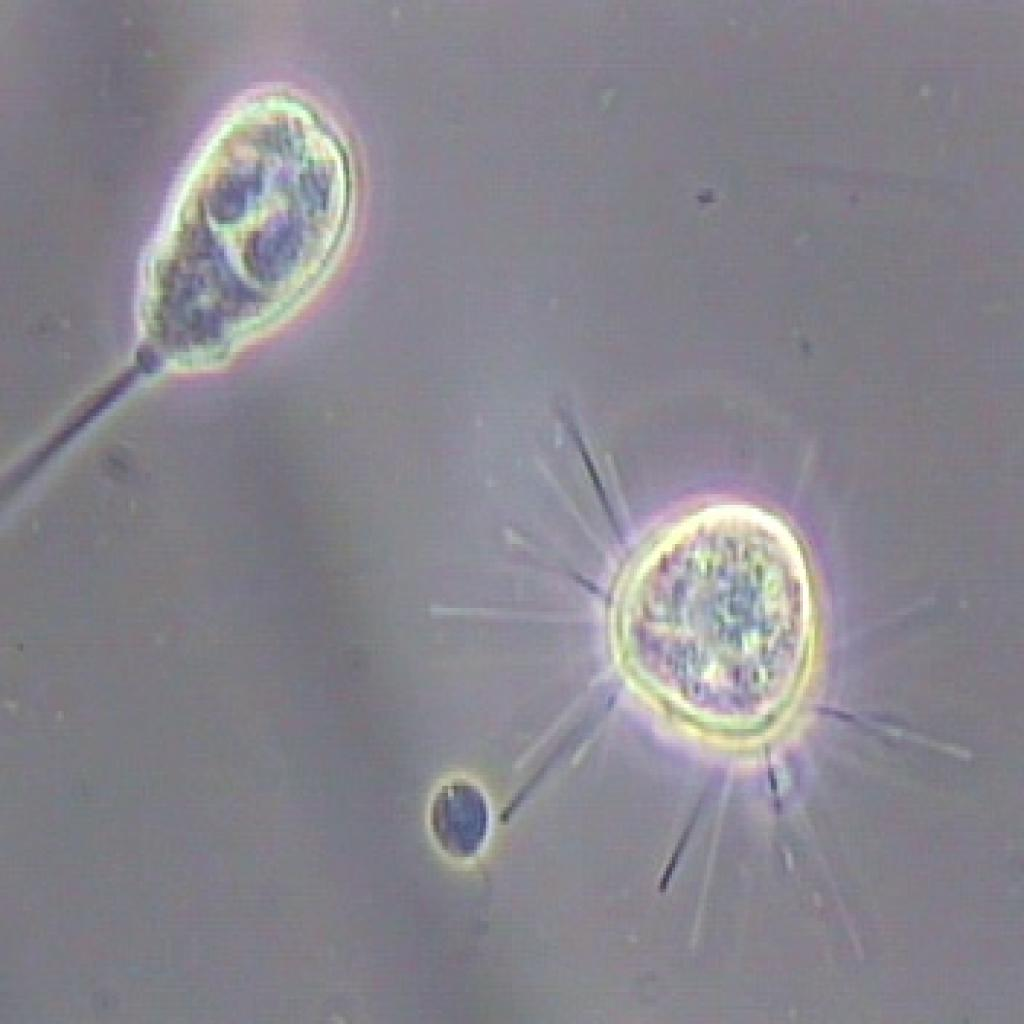Flagellates: (414, 763, 508, 990)
